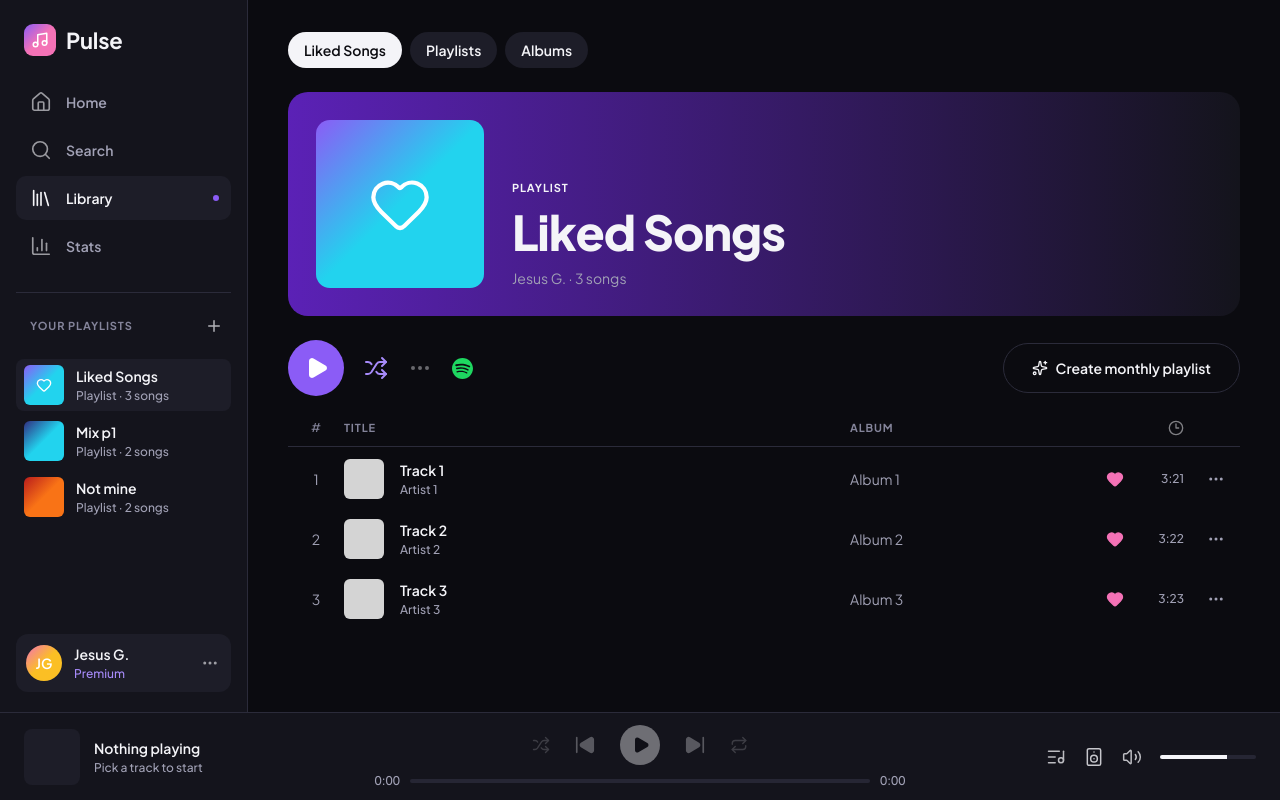
Test: LibraryPage · Liked Songs › removes an unliked track optimistically
Step 1. Click the button named "Remove Track 2 from Liked Songs" → [1115, 539], box [1106,530,1124,548]
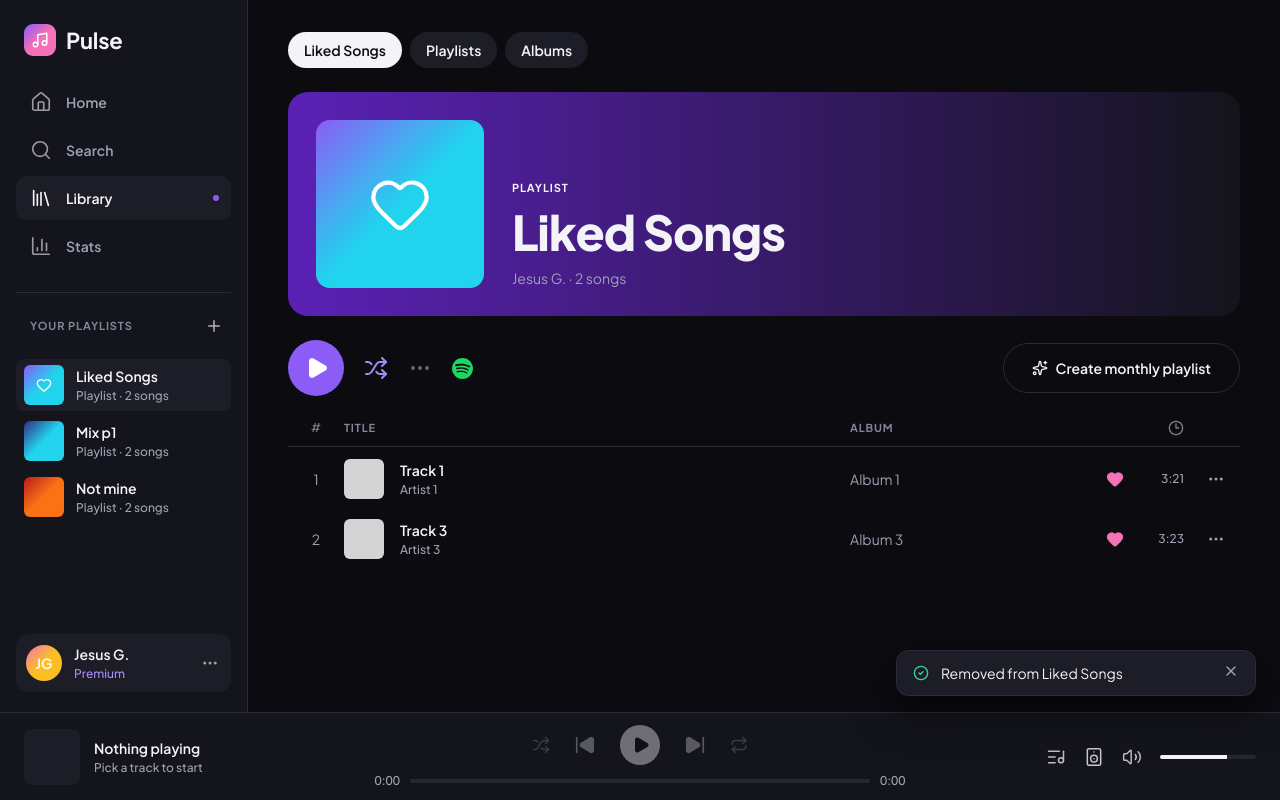
expect the text "Track 2" is gone: met
